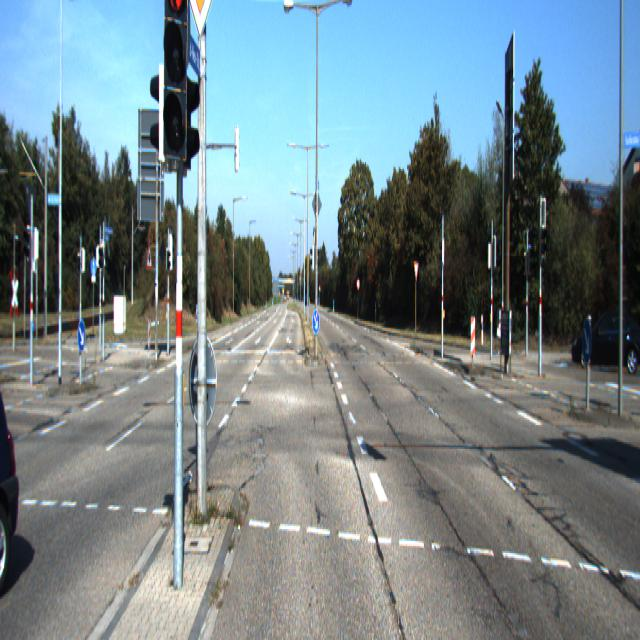Car: (0, 337, 33, 598), (571, 301, 639, 375)
